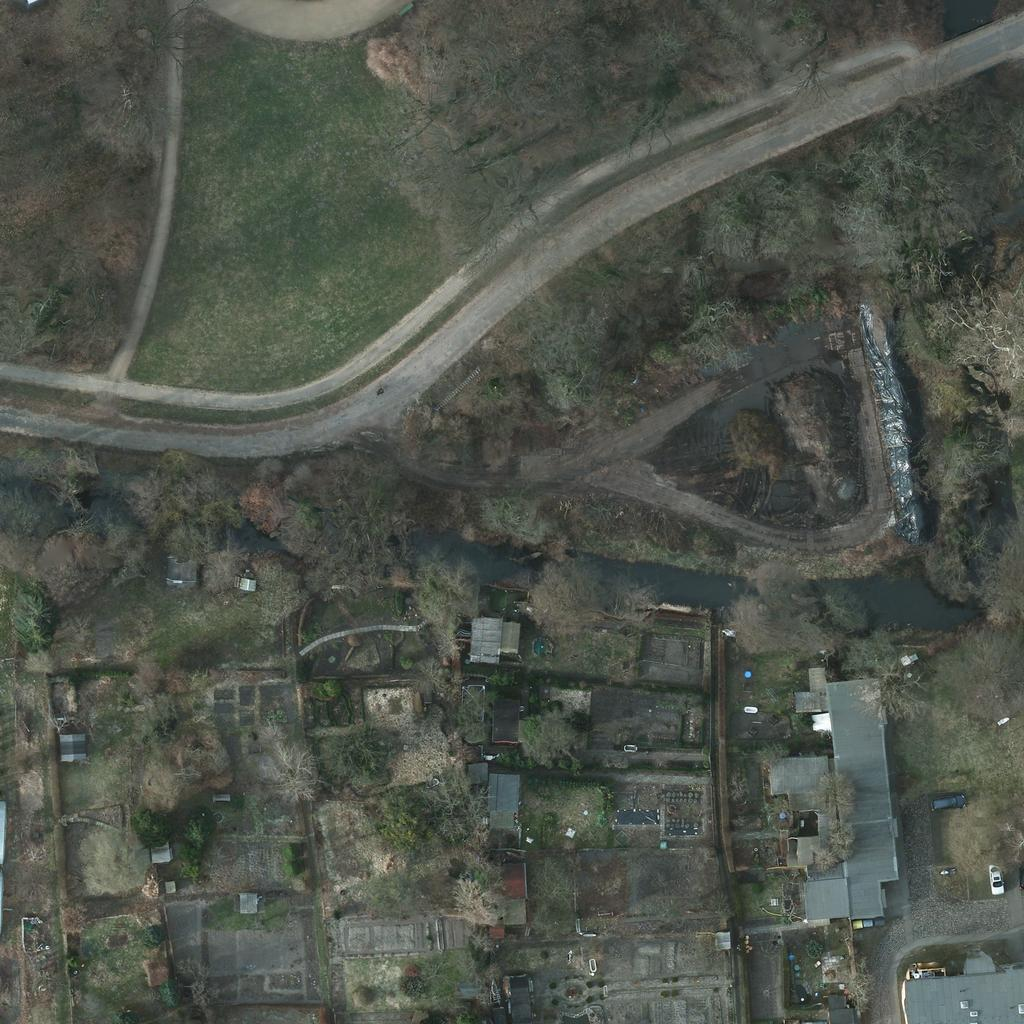car: (932, 783, 966, 817), (978, 859, 1012, 893)
